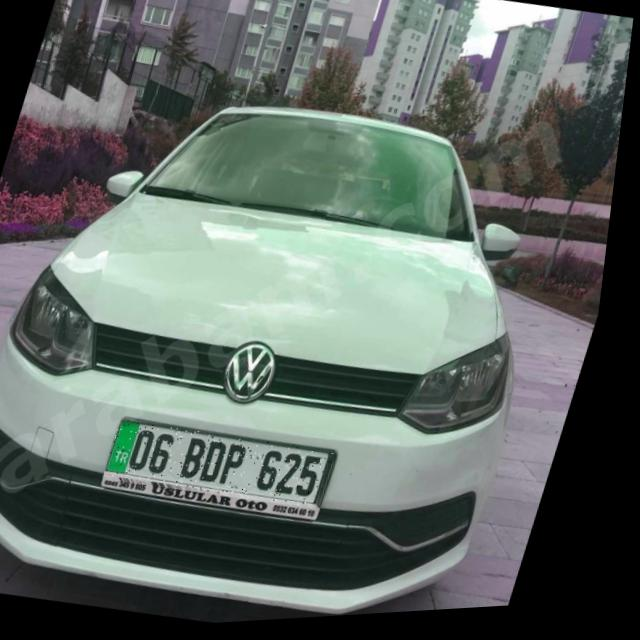license_plate: (111, 413, 351, 524)
